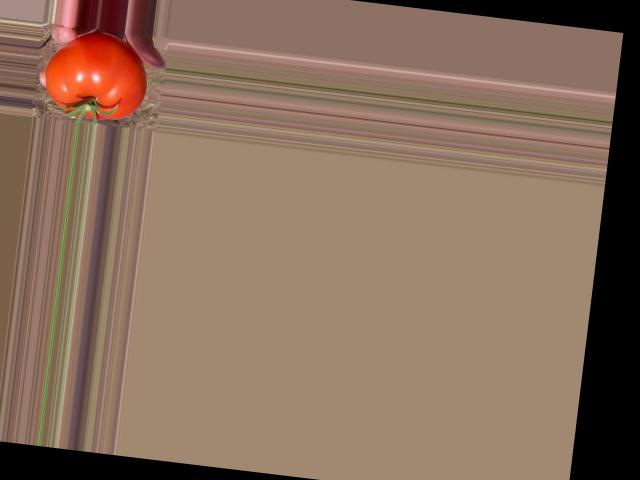tomato: (40, 27, 150, 124)
